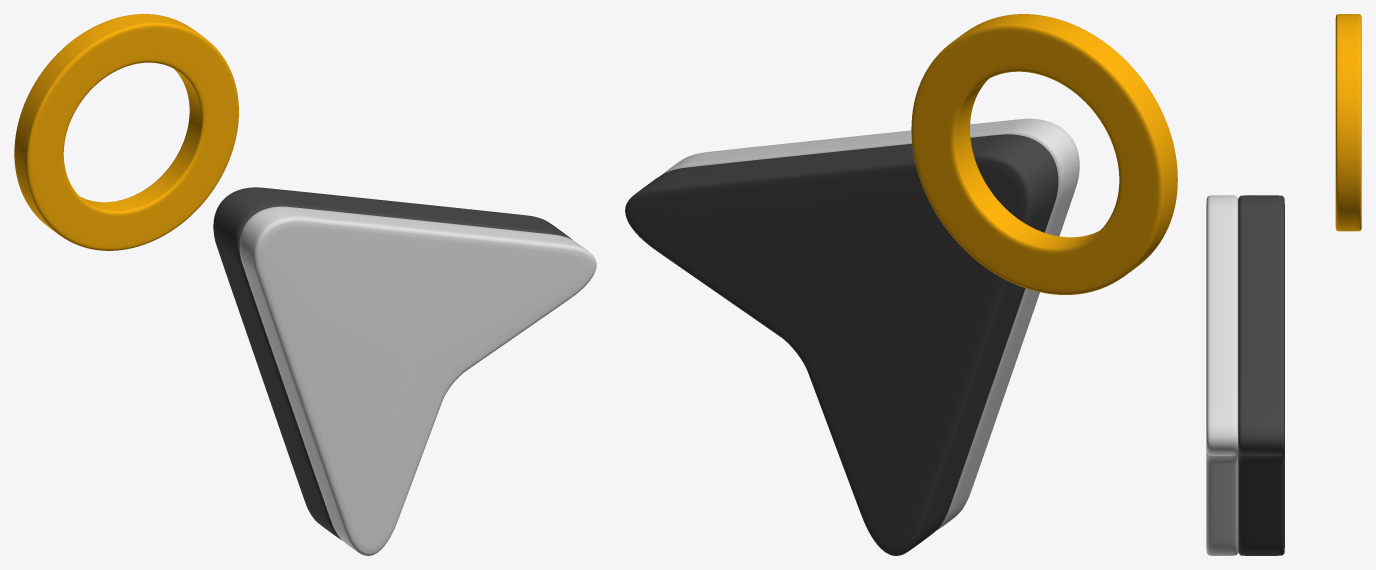
The model's file is cursor-active-animated-3d-icon-940482832341.glb.
3 renders of one model, left to right at view 1: azimuth 30°, elevation 25°; view 2: azimuth 150°, elevation 25°; view 3: azimuth 270°, elevation 25°, orthographic. The views are drawn at different scales.
Visible parts, largest first — view 1: Cursor 1, Active Sign, Cursor 2; view 2: Cursor 2, Active Sign, Cursor 1; view 3: Cursor 2, Cursor 1, Active Sign.
Part boxes in pixels (x1,y1,x2,y2): Cursor 1: (239,206,596,555); Active Sign: (14,14,238,250); Cursor 2: (213,187,572,539); Cursor 2: (625,134,1058,555); Active Sign: (911,14,1177,294); Cursor 1: (663,118,1079,530); Cursor 2: (1238,195,1284,555); Cursor 1: (1206,195,1238,555); Active Sign: (1335,14,1361,231).
Bounding box in the file's own units: 2.61 × 2.6 × 0.7979.
